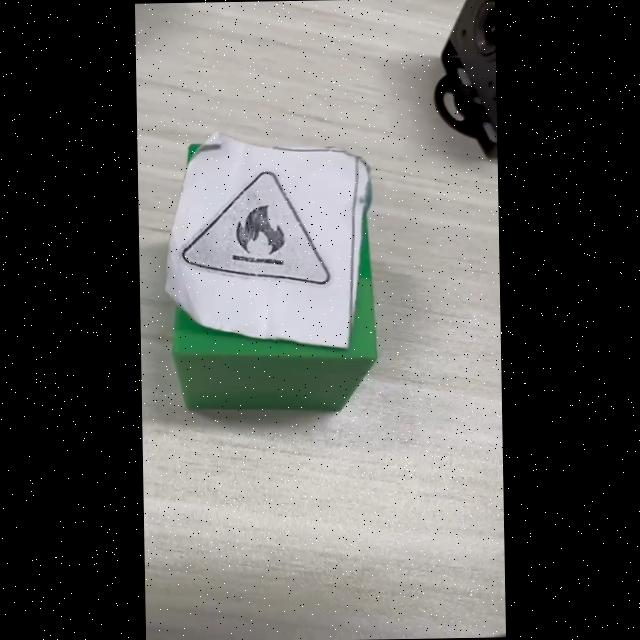Fire: (181, 171, 330, 286)
